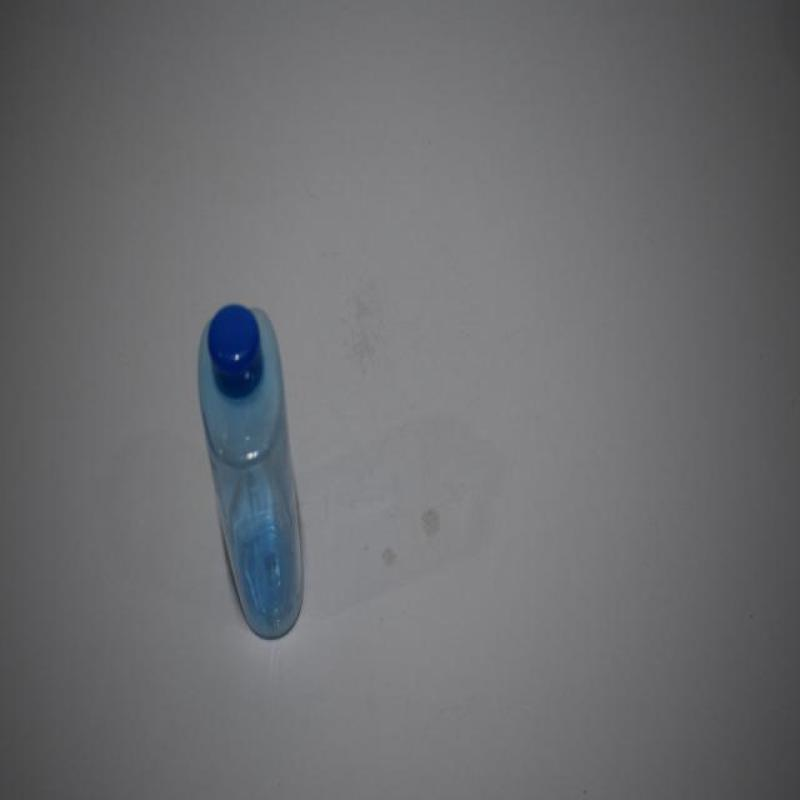botella: (195, 302, 306, 642)
